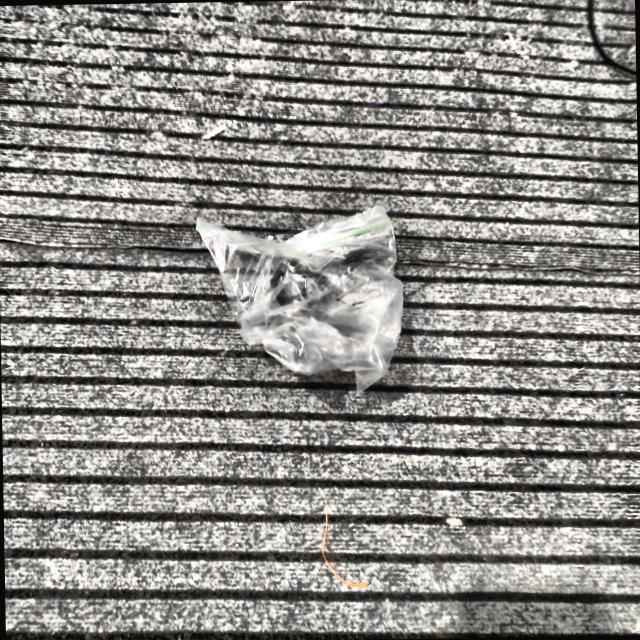plastic bag: (197, 205, 403, 392)
